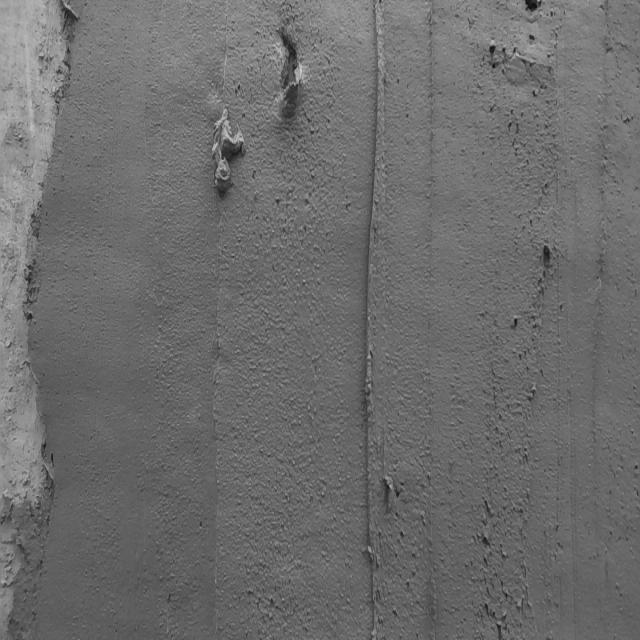trowels marks: (205, 5, 245, 638), (358, 1, 391, 640), (421, 9, 447, 640)
